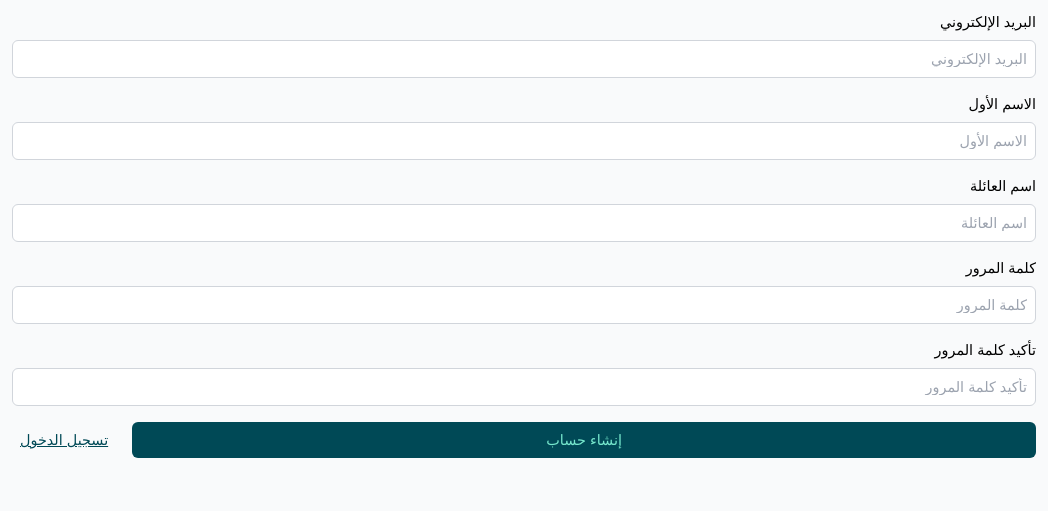
it: SignUpForm › handles signup failure
Type "test@example.com" into the field with placeholder "البريد الإلكتروني".
click(524, 59); type("test@example.com")  # box x1=12 y1=40 x2=1036 y2=78
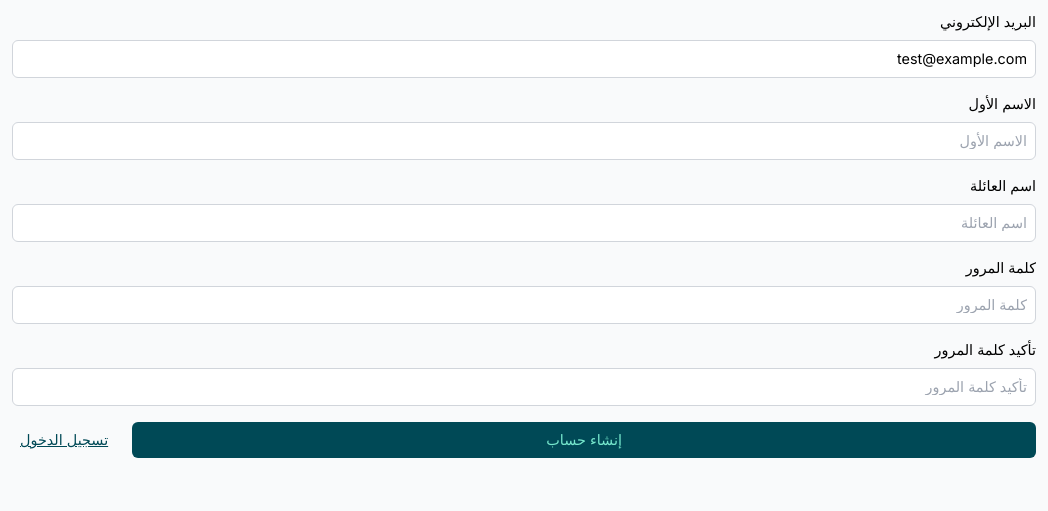
Type "John" into the field with placeholder "الاسم الأول".
click(524, 141); type("John")  # box x1=12 y1=122 x2=1036 y2=160
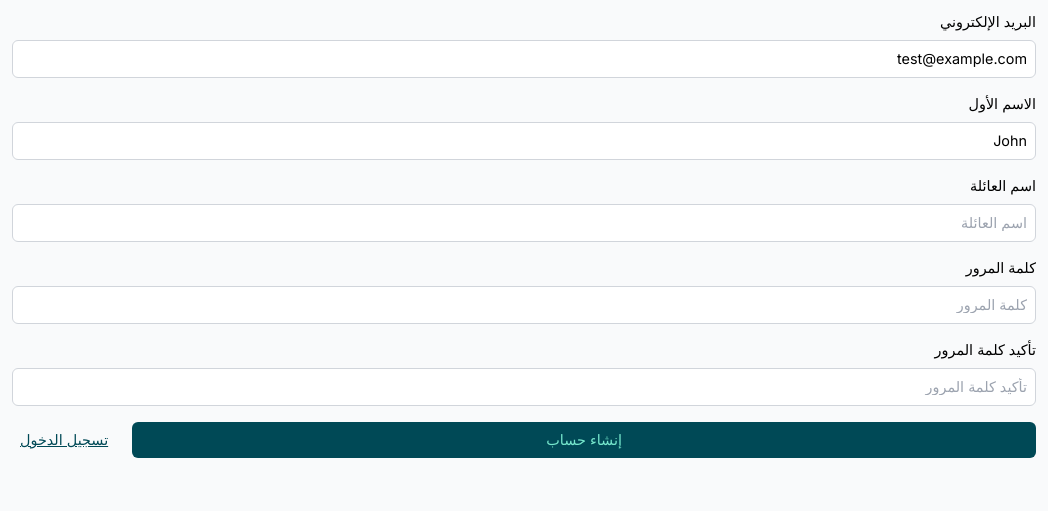
Type "Doe" into the field with placeholder "اسم العائلة".
click(524, 223); type("Doe")  # box x1=12 y1=204 x2=1036 y2=242
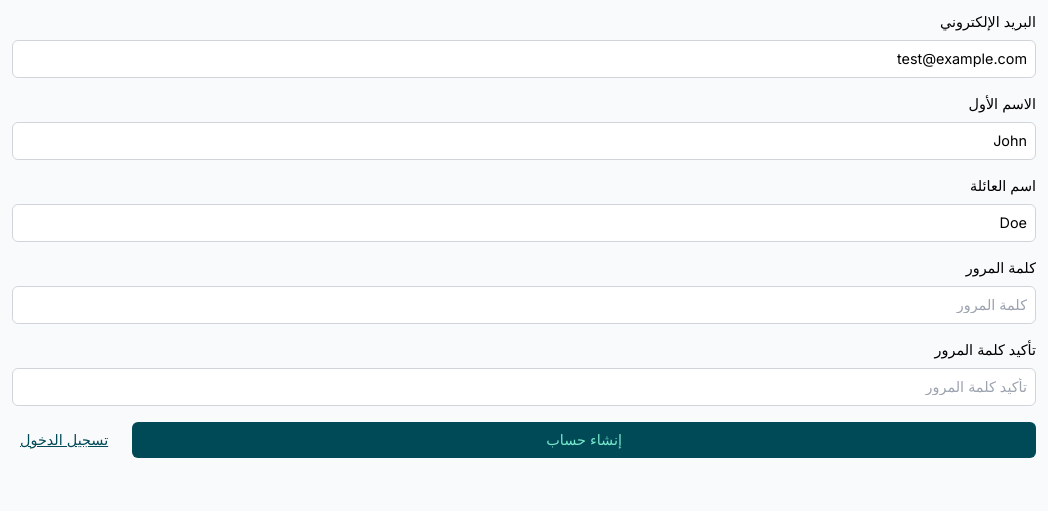
Type "password123" into the password field with placeholder "كلمة المرور".
click(524, 305); type("password123")  # box x1=12 y1=286 x2=1036 y2=324
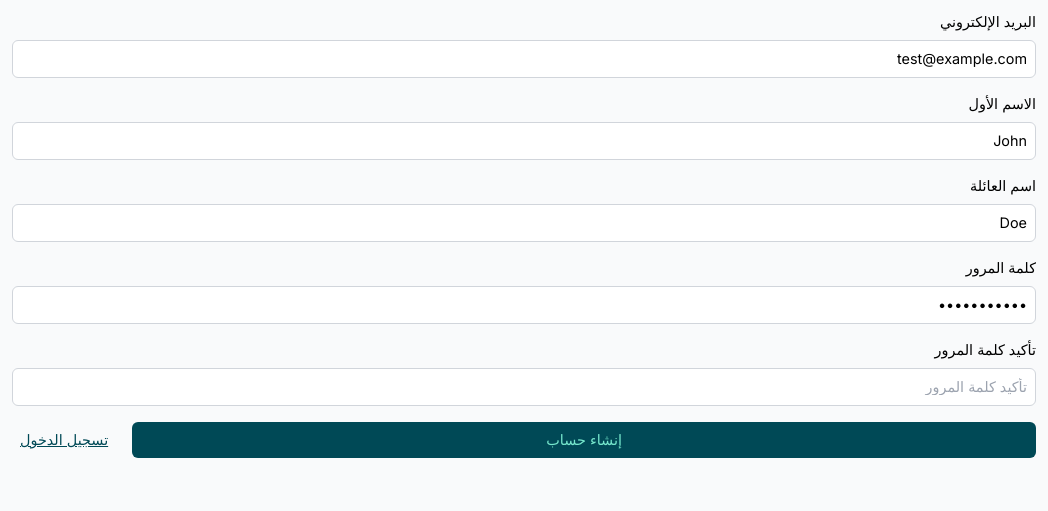
Type "password123" into the password field with placeholder "تأكيد كلمة المرور".
click(524, 387); type("password123")  # box x1=12 y1=368 x2=1036 y2=406
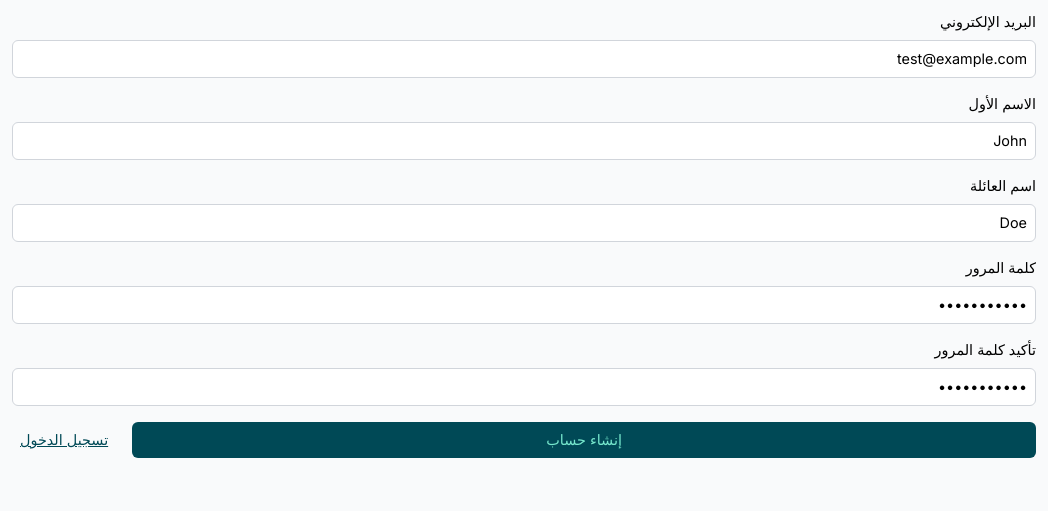
Click the button "إنشاء حساب".
click(584, 440)  # box x1=132 y1=422 x2=1036 y2=458
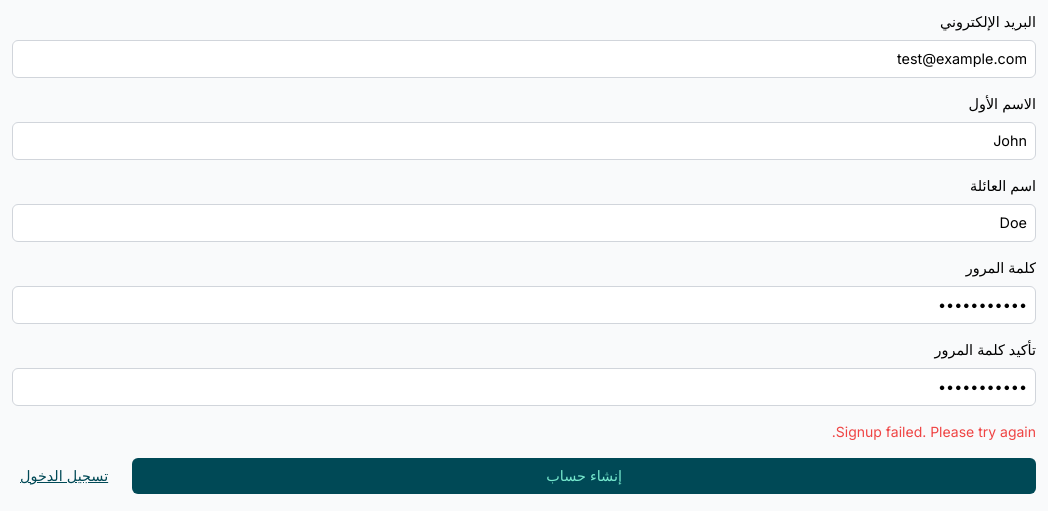
expect the text "Signup failed. Please try again." is shown: met, box x1=832 y1=423 x2=1036 y2=440
